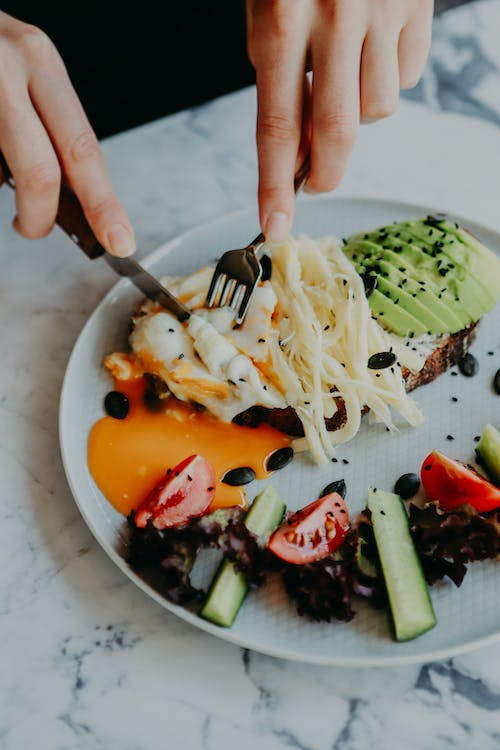knife: (51, 180, 193, 323)
